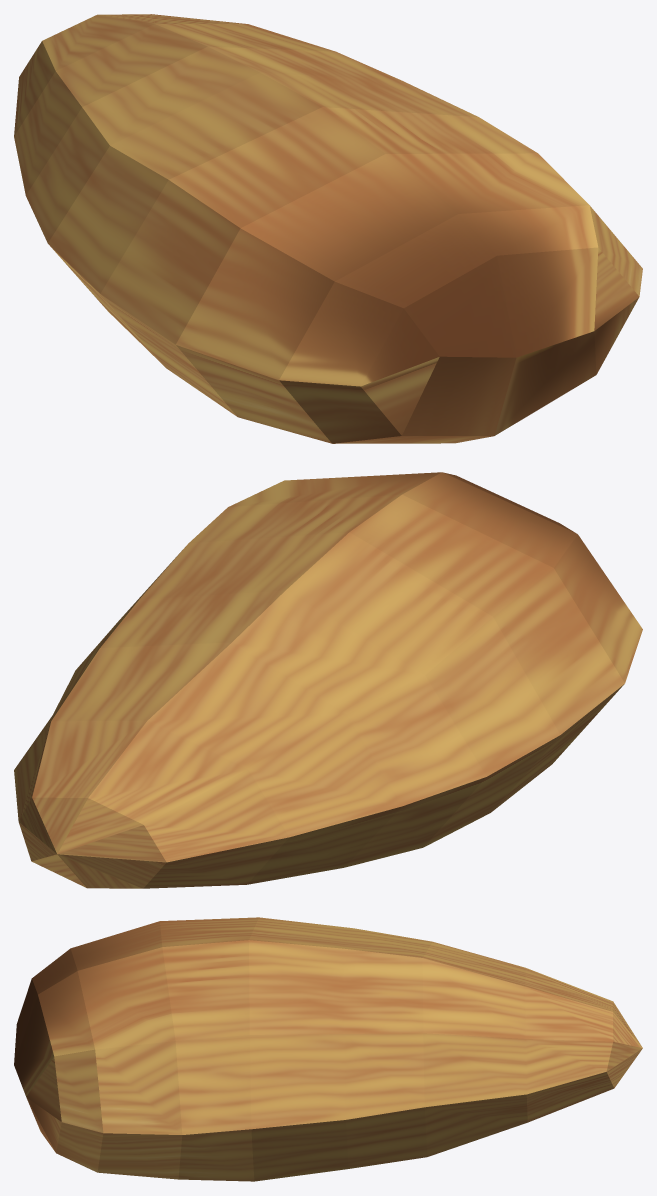
File: almond2.fbx
3 renders of one model, top to bottom at view 1: azimuth 30°, elevation 25°; view 2: azimuth 150°, elevation 25°; view 3: azimuth 270°, elevation 25°, orthographic. The views are drawn at different scales.
Parts seen in each view (by area): view 1: almond2; view 2: almond2; view 3: almond2.
Part boxes in pixels (bbox=[...]): almond2: bbox=[14, 14, 642, 443]; almond2: bbox=[14, 472, 642, 888]; almond2: bbox=[14, 917, 642, 1181].
Size of the model in its own units: 3.91 by 2.25 by 6.28.
